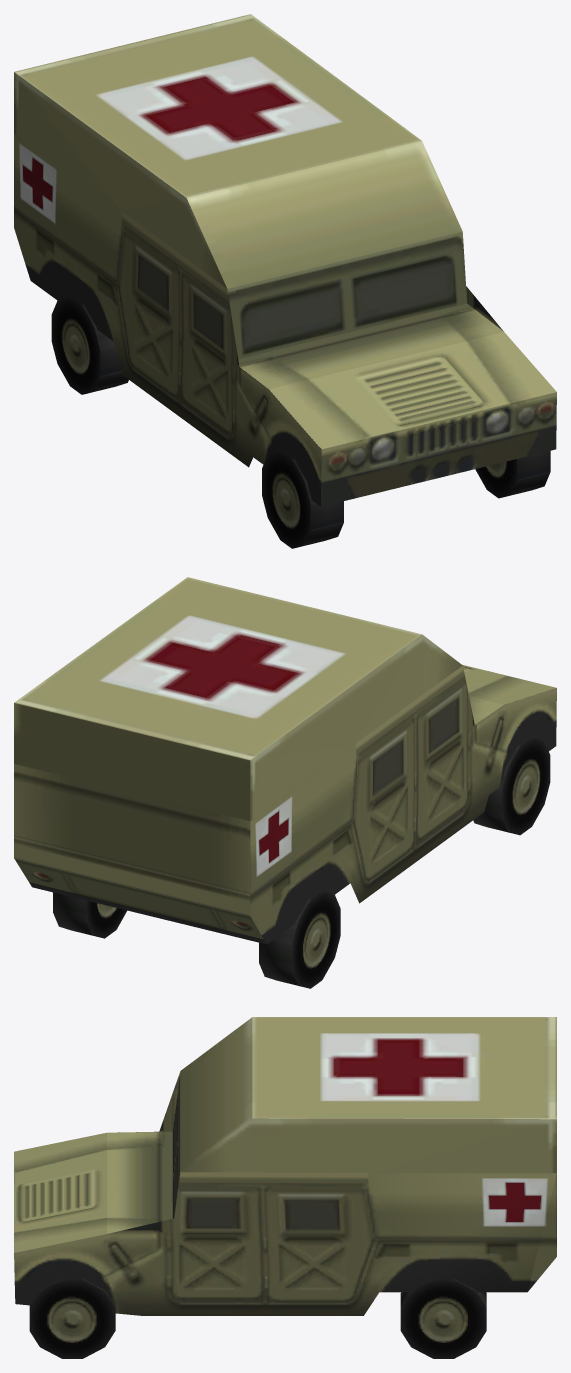
Rendered from M996_AMB.DAE.
The picture shows the model from 3 angles, top to bottom: view 1: azimuth 30°, elevation 25°; view 2: azimuth 150°, elevation 25°; view 3: azimuth 270°, elevation 25°; orthographic projection. The views are drawn at different scales.
Visible parts, largest first — view 1: _1096_M996_AMB; view 2: _1096_M996_AMB; view 3: _1096_M996_AMB.
Boxes of the visible parts, x1,y1,x2,y2 form: _1096_M996_AMB: (14, 14, 556, 548); _1096_M996_AMB: (14, 577, 556, 988); _1096_M996_AMB: (14, 1017, 556, 1358).
Size of the model in its own units: 91.73 by 99.13 by 204.
1 material, 1 textured.
